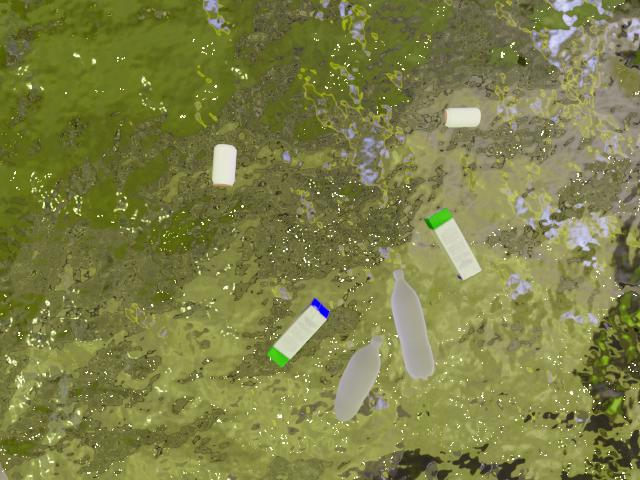Metal: (198, 132, 255, 194), (439, 96, 490, 140)
Plastic: (373, 250, 449, 395), (325, 322, 395, 426)
Trash: (419, 204, 503, 291), (260, 280, 333, 374)
